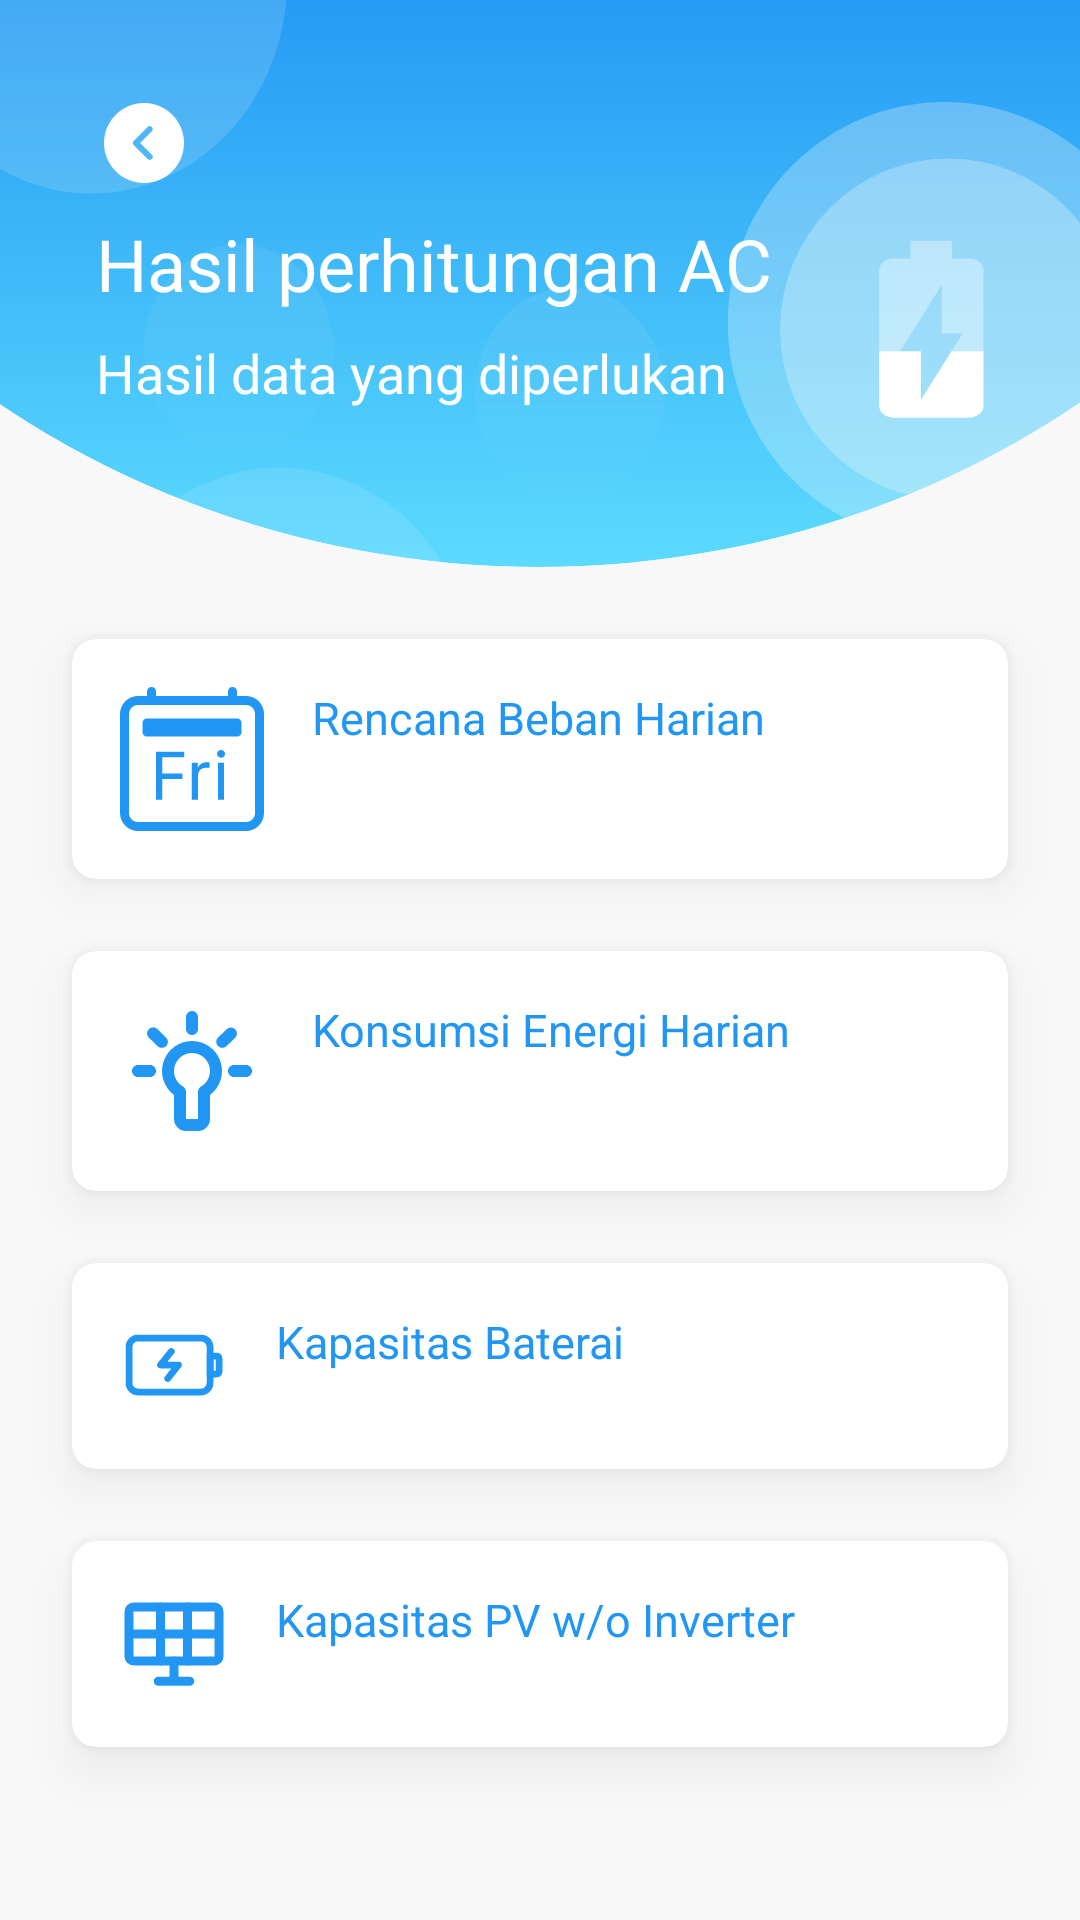

Icon click points for this 1080 x 1920 phone screenshot, format point (x, y):
back: point (144, 143)
energy consumption: point (192, 1071)
solar energy: point (174, 1644)
